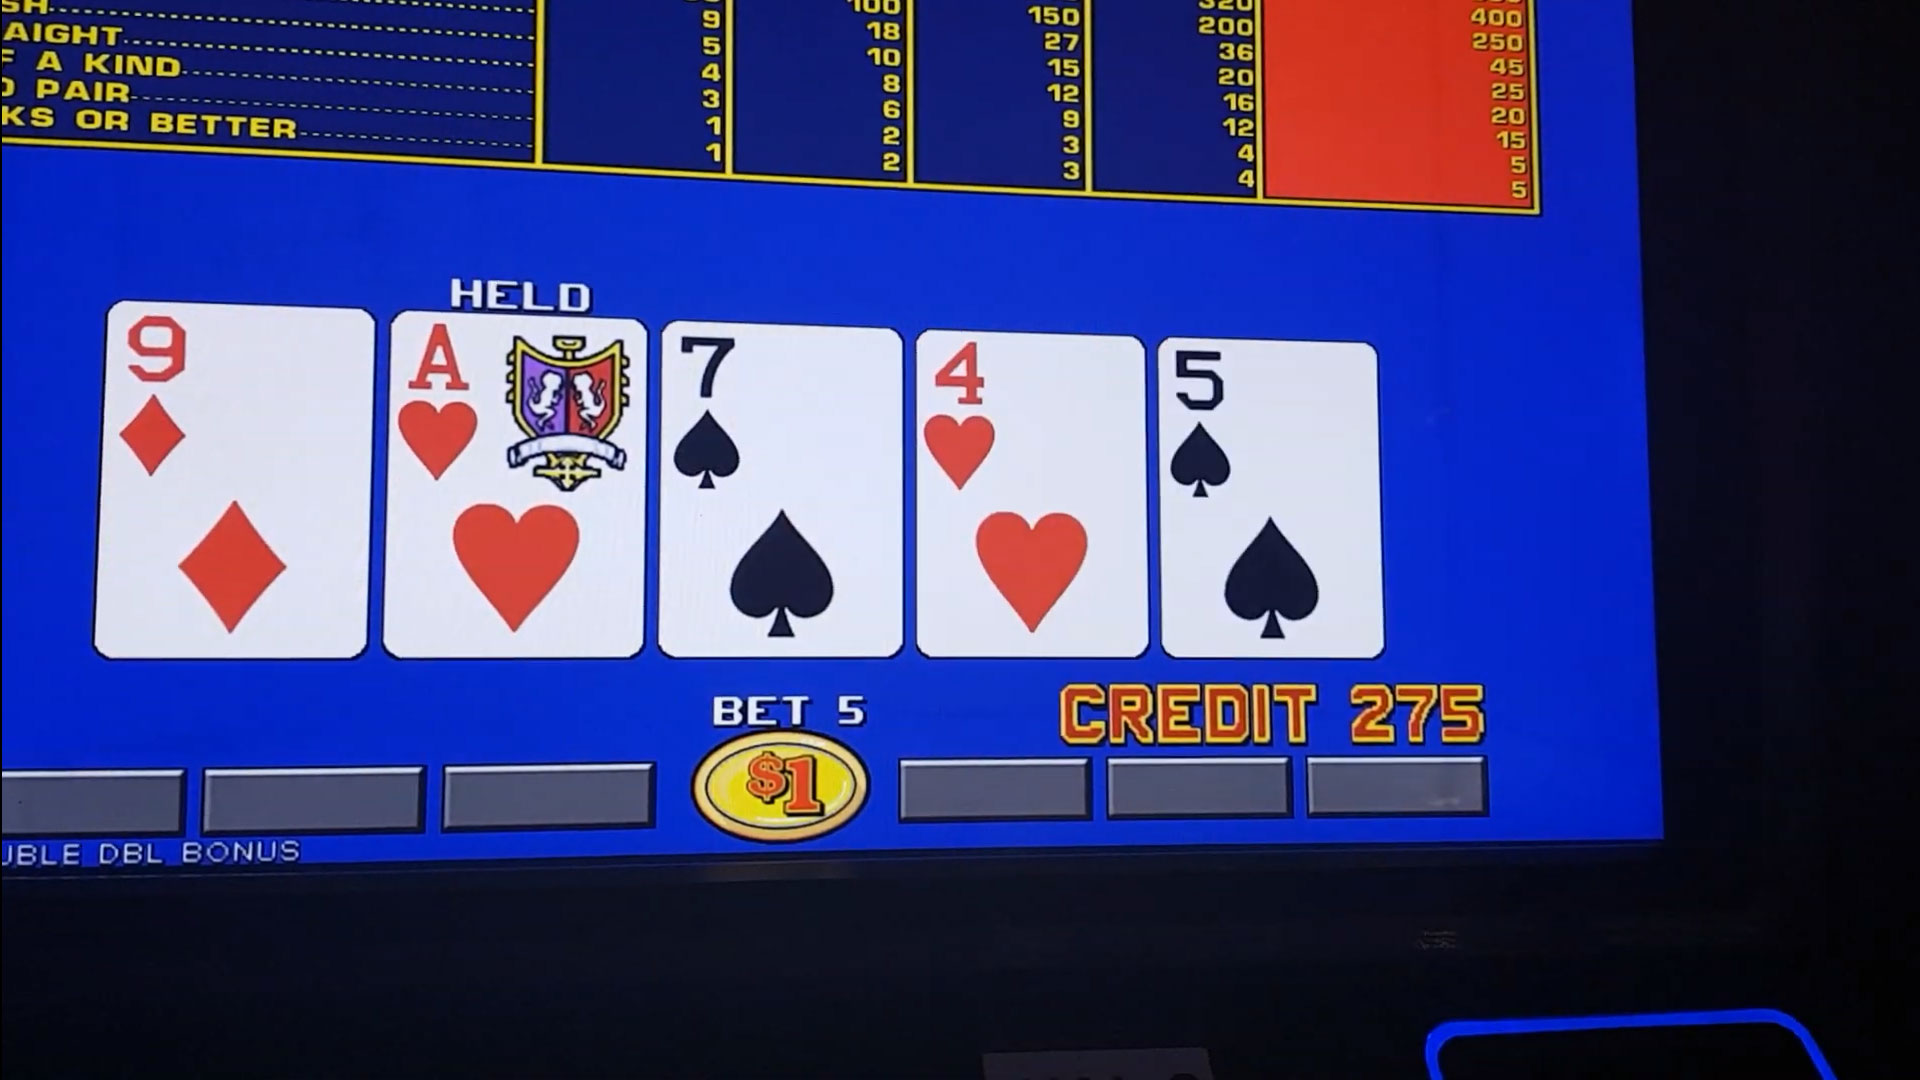D9: (105, 310, 369, 487)
H4: (913, 343, 1138, 517)
HA: (400, 319, 644, 492)
S5: (1167, 347, 1369, 520)
S7: (658, 331, 899, 506)
